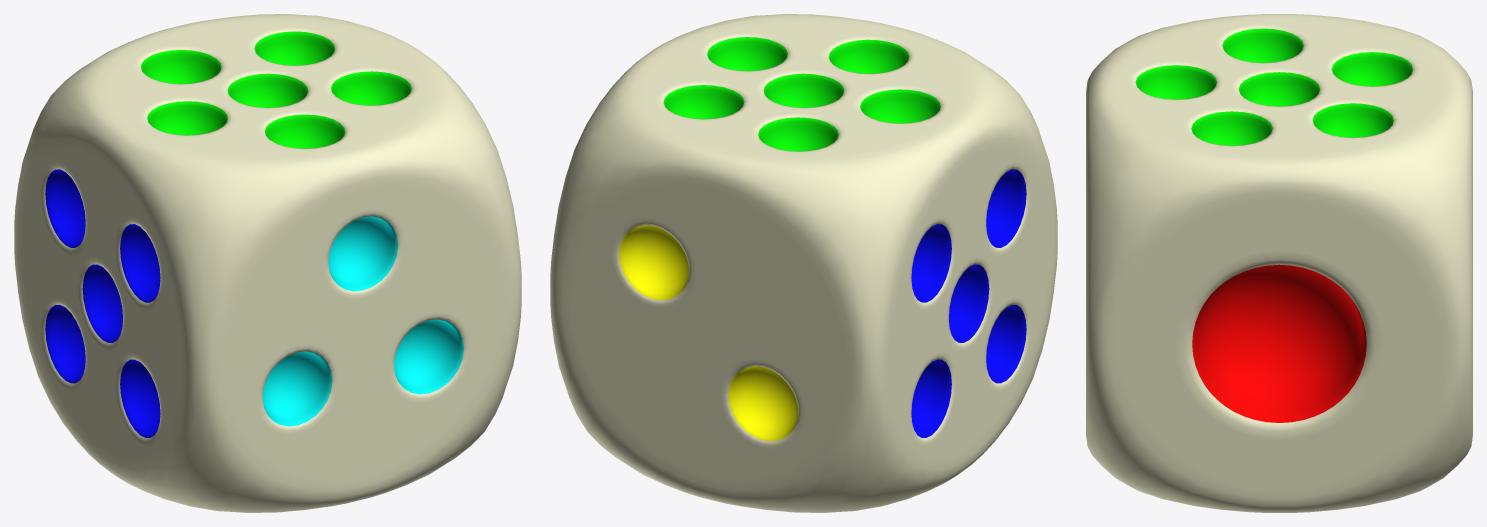
File: Dice.glb
3 views of the same model, side by side, from view 1: azimuth 30°, elevation 25°; view 2: azimuth 150°, elevation 25°; view 3: azimuth 270°, elevation 25° (orthographic).
Parts seen in each view (by area): view 1: Dice; view 2: Dice; view 3: Dice.
Part boxes in pixels (<box>): Dice: <box>14,14,521,512</box>; Dice: <box>550,14,1057,512</box>; Dice: <box>1086,14,1472,512</box>.
Bounding box in the file's own units: 0.5001 × 0.5 × 0.5.
